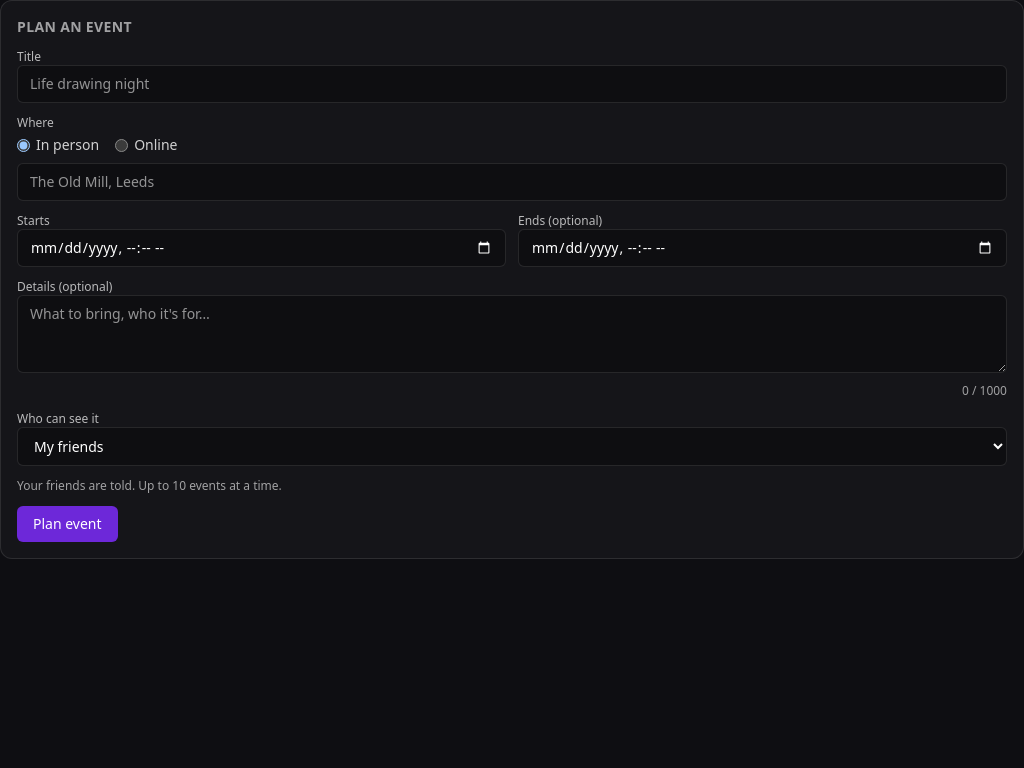
Test: EventForm: planning › shows the server's reason and keeps what was typed
Type "Show and tell" into the field labelled "Title".
click(512, 84); type("Show and tell")  # box [17, 65, 1007, 103]
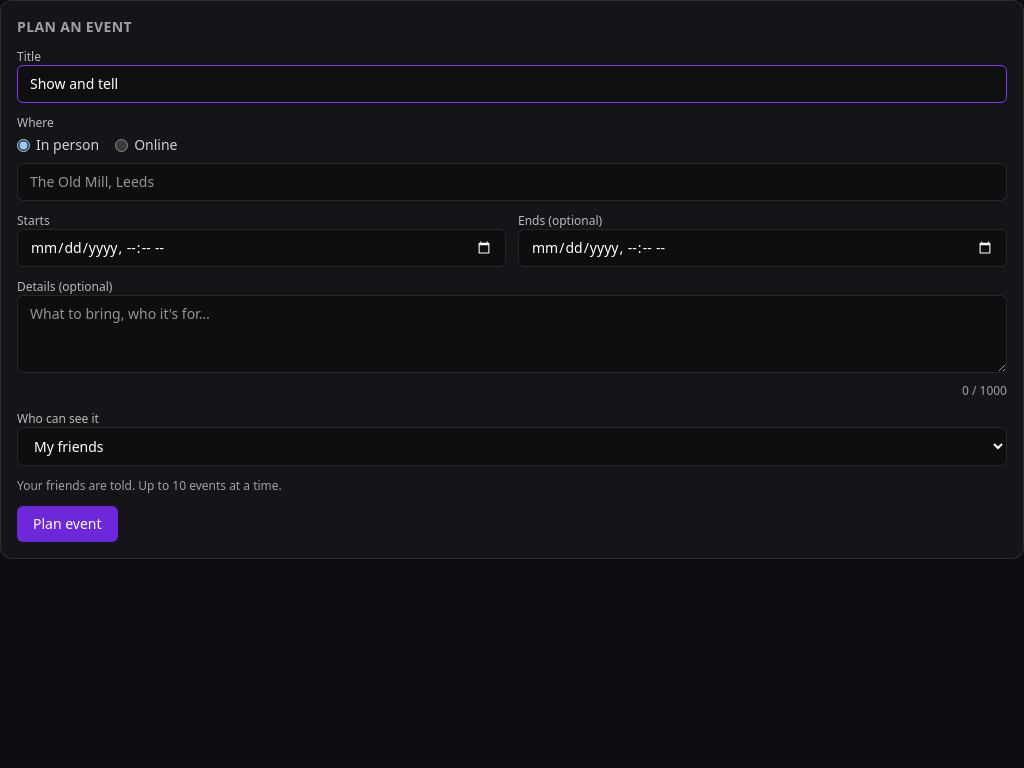
Type "The Old Mill" into the field named "Place".
click(512, 182); type("The Old Mill")  # box [17, 163, 1007, 201]
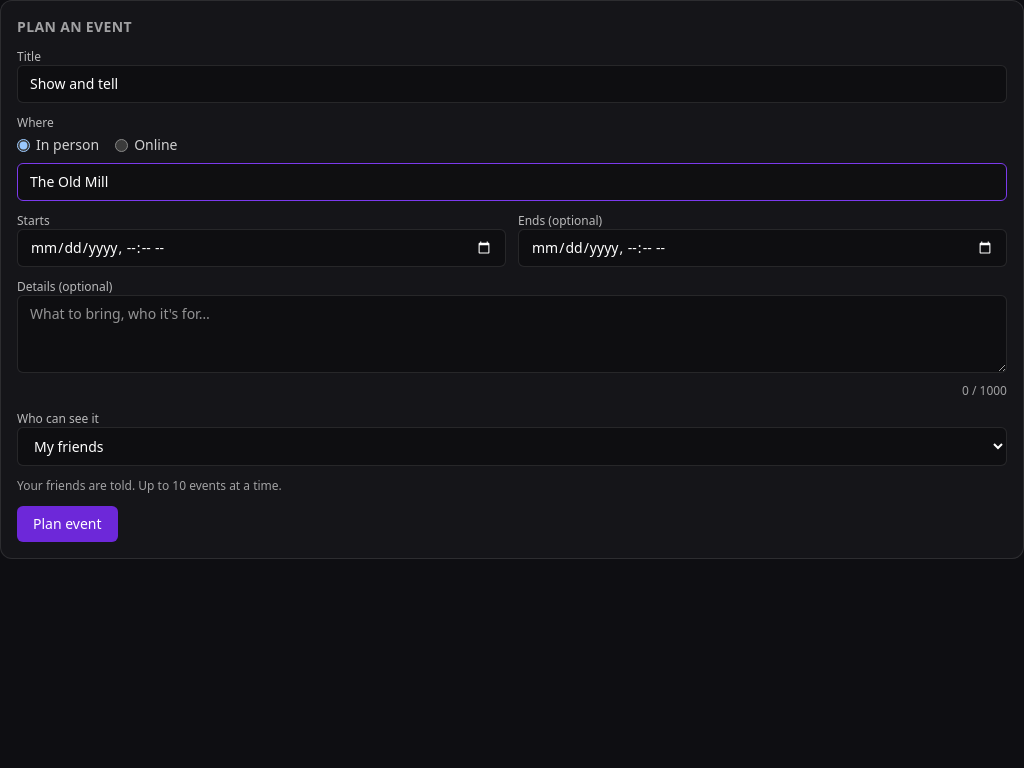
Type "2030-05-04T19:30" into the field labelled "Starts".
click(262, 248); type("2030-05-04T19:30")  # box [17, 229, 506, 267]
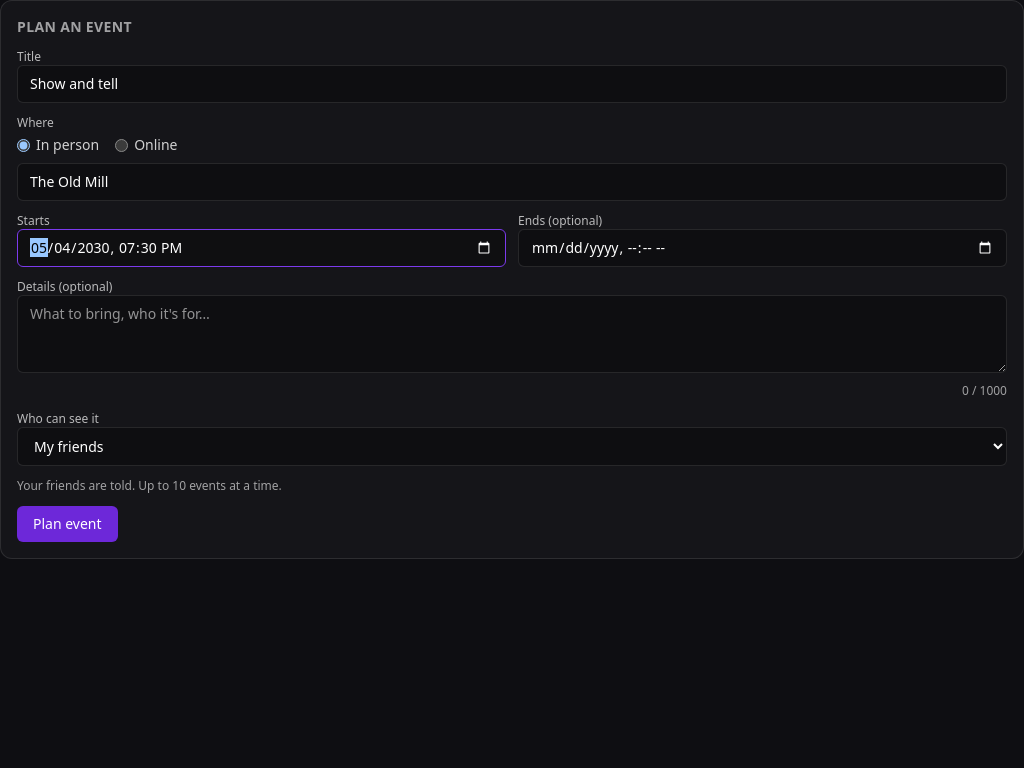
Click the button "Plan event".
click(67, 524)  # box [17, 506, 118, 542]
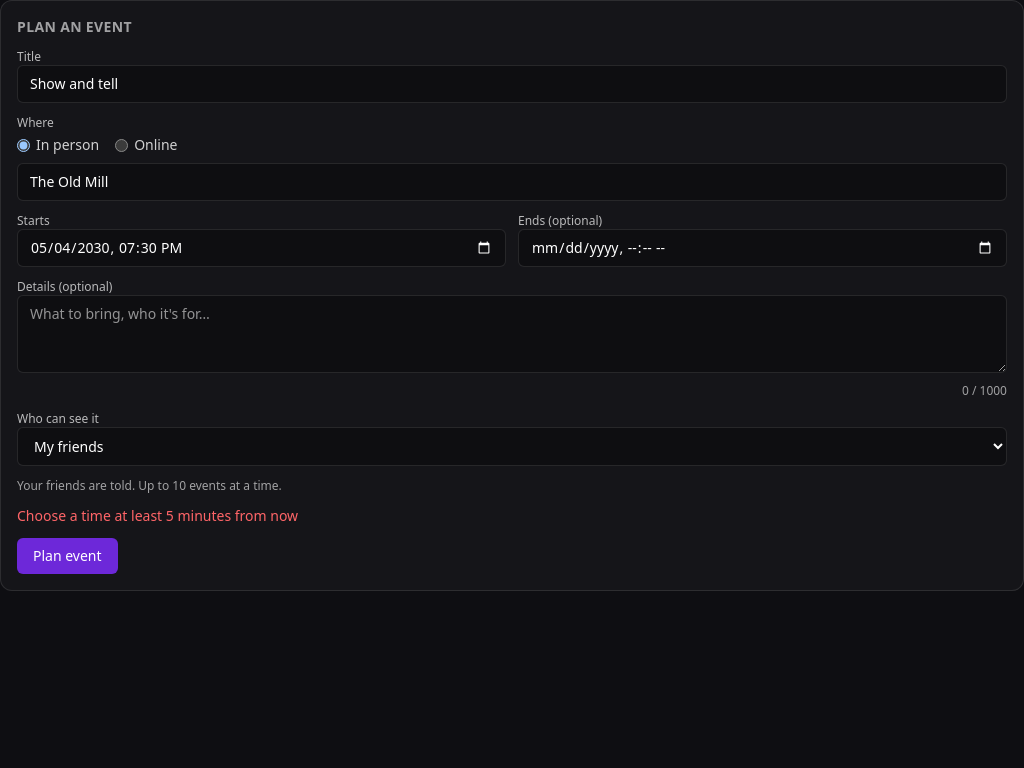
Result: the message shows "at least 5 minutes" at [17, 506, 298, 525]
